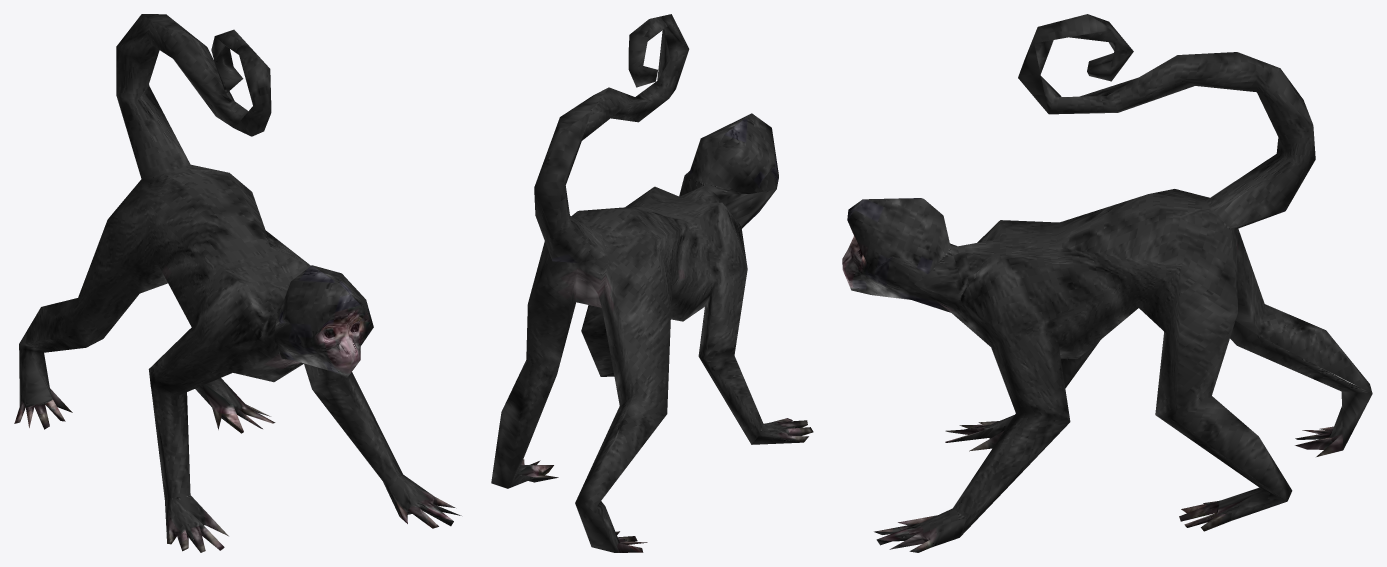
Rendered from monkey.gltf.
The picture shows the model from 3 angles, left to right: view 1: azimuth 30°, elevation 25°; view 2: azimuth 150°, elevation 25°; view 3: azimuth 270°, elevation 25°; orthographic projection. The views are drawn at different scales.
Visible parts, largest first — view 1: 12958_Spider_Monkey_v1_l2.003; view 2: 12958_Spider_Monkey_v1_l2.003; view 3: 12958_Spider_Monkey_v1_l2.003.
Boxes of the visible parts, left/top/right/bottom form: 12958_Spider_Monkey_v1_l2.003: left=14, top=14, right=461, bottom=552; 12958_Spider_Monkey_v1_l2.003: left=491, top=14, right=813, bottom=552; 12958_Spider_Monkey_v1_l2.003: left=842, top=14, right=1372, bottom=552.
Bounding box in the file's own units: 20.72 × 35.6 × 36.19.
Materials: 1 (1 with a texture image).
